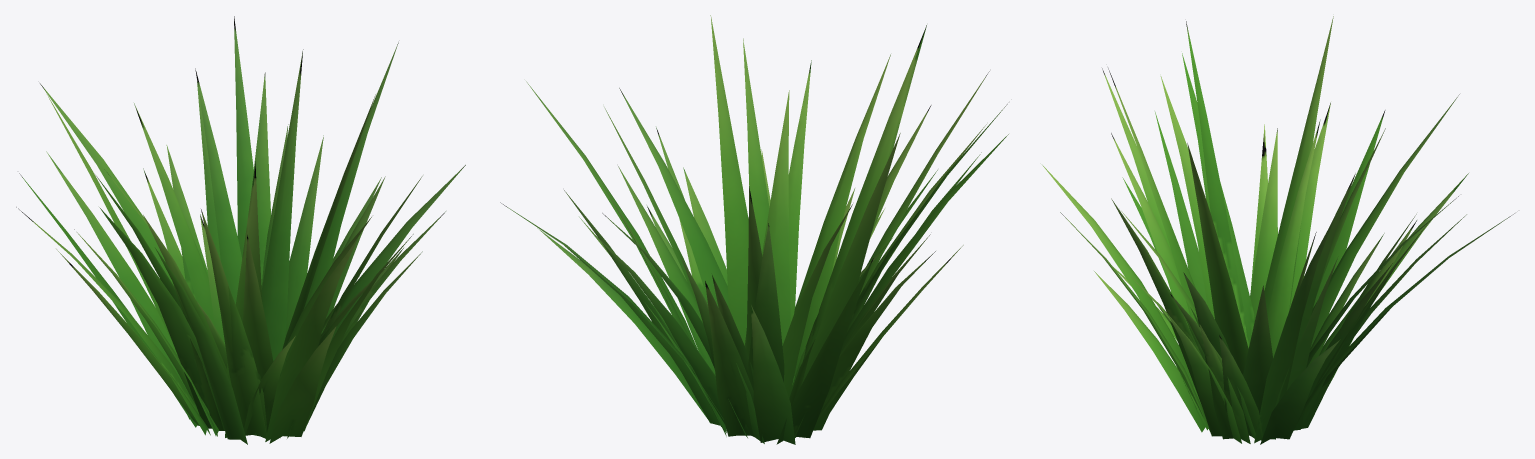
Rendered from grass_tuft_a.glb.
The picture shows the model from 3 angles, left to right: view 1: azimuth 30°, elevation 25°; view 2: azimuth 150°, elevation 25°; view 3: azimuth 270°, elevation 25°; orthographic projection. The views are drawn at different scales.
Parts seen in each view (by area): view 1: grass_tuft_a; view 2: grass_tuft_a; view 3: grass_tuft_a.
Boxes of the visible parts, x1,y1,x2,y2 form: grass_tuft_a: (16,16,465,444); grass_tuft_a: (500,15,1008,444); grass_tuft_a: (1042,16,1514,444).
Bounding box in the file's own units: 0.5596 × 0.4724 × 0.6227.
Materials: 1 (1 with a texture image).
